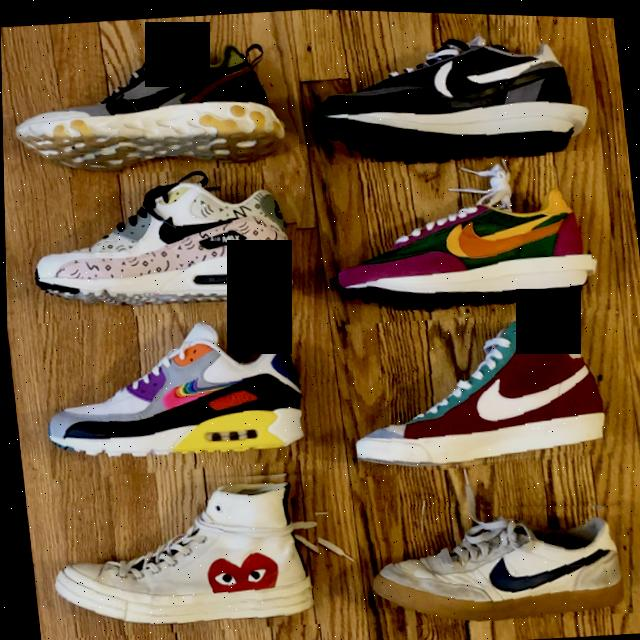shoe: (314, 140, 597, 330), (39, 456, 326, 640), (341, 299, 628, 481), (34, 307, 322, 486), (1, 29, 301, 197), (20, 155, 307, 329), (301, 13, 597, 181), (353, 481, 631, 631)
